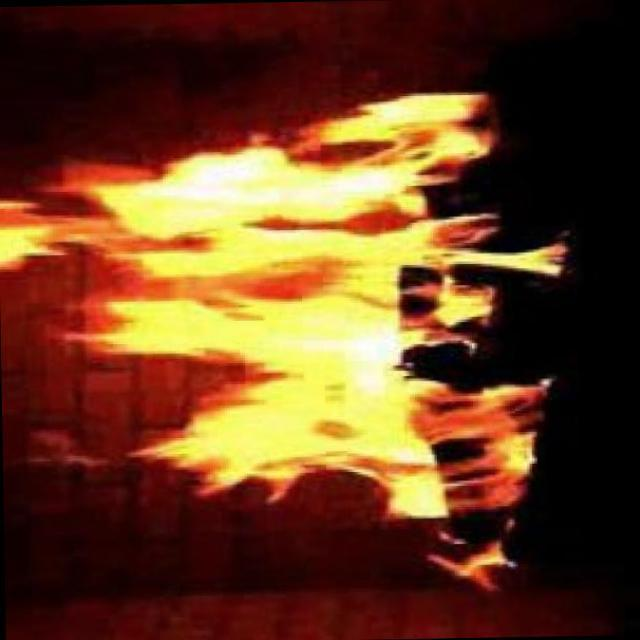Fire: (27, 146, 501, 518)
